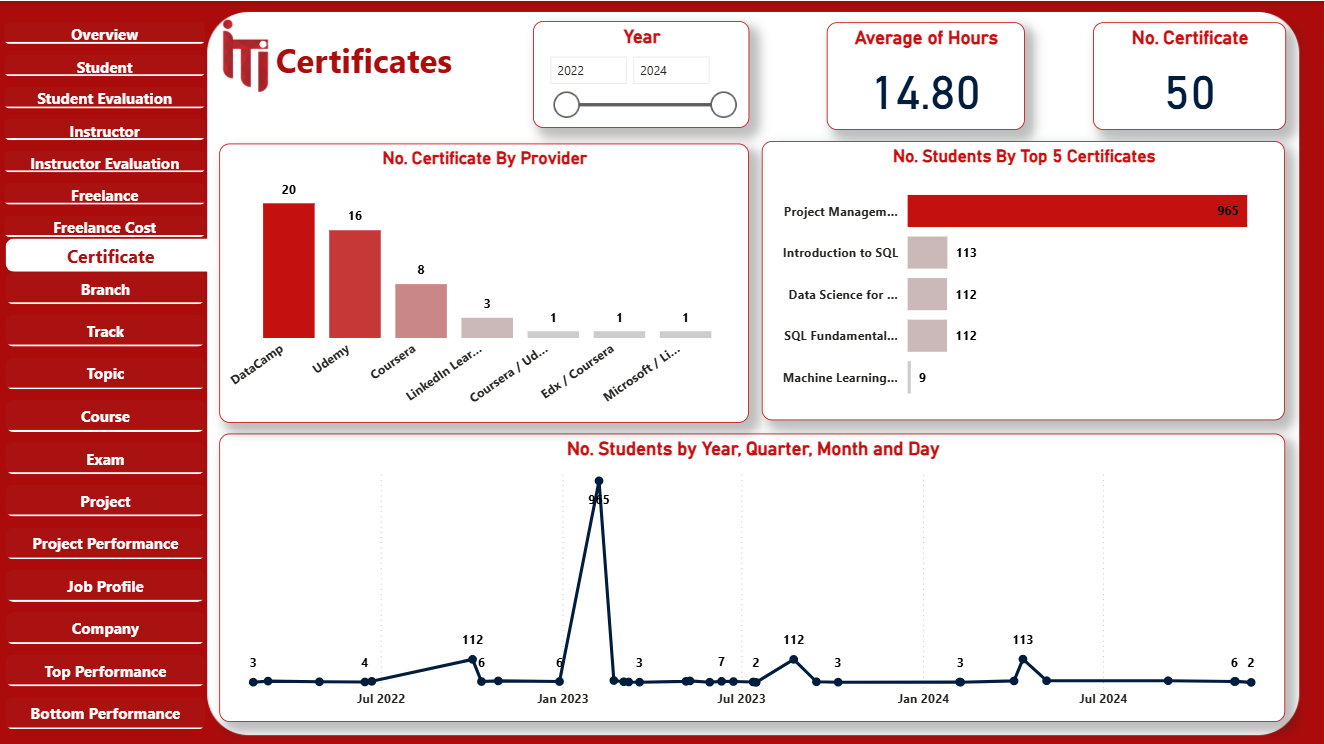

This screenshot's page, from the dashboard's own definition file:
{"tool":"powerbi","page":{"name":"Certificate","canvas":[1280,720],"ordinal":7},"visuals":[{"type":"card","title":"No. Certificate","fields":{"Values":["Measures_.No. Certificates"]},"box":[1056.6,20.2,186.2,103.9],"z":0},{"type":"card","title":"Average of Hours","fields":{"Values":["Avg(vw_Dim_Certificate.hours)"]},"box":[799.3,20.3,191,104.3],"z":1000},{"type":"lineChart","title":"No. Students by Year, Quarter, Month and Day","fields":{"Y":["Count(Fact_Student_Performance.st_id)"],"Category":["vw_Dim_Certificate.Expiration_Date.Variation.Date Hierarchy.Year","vw_Dim_Certificate.Expiration_Date.Variation.Date Hierarchy.Quarter","vw_Dim_Certificate.Expiration_Date.Variation.Date Hierarchy.Month","vw_Dim_Certificate.Expiration_Date.Variation.Date Hierarchy.Day"]},"box":[213.6,417.1,1029.1,278.6],"z":2000},{"type":"clusteredColumnChart","title":"No. Certificate By Provider","fields":{"Category":["vw_Dim_Certificate.provider"],"Y":["CountNonNull(vw_Dim_Certificate.cer_id)"]},"box":[213.6,137.1,511,269.9],"z":3000},{"type":"clusteredBarChart","title":"No. Students By Top 5 Certificates","fields":{"Category":["vw_Dim_Certificate.certificate_name"],"Y":["Count(Fact_Student_Performance.st_id)"]},"box":[737.6,135.7,505.2,269.9],"z":4000},{"type":"textbox","box":[263.5,30.2,273.1,81],"z":5000},{"type":"slicer","title":"Year","fields":{"Values":["vw_Dim_Certificate.Expiration_Date.Variation.Date Hierarchy.Year"]},"box":[516.2,19,208.6,103],"z":6000},{"type":"pageNavigator","box":[5.5,20.6,194.9,208.6],"z":7000},{"type":"pageNavigator","box":[6.9,229.2,203.1,32.9],"z":8000},{"type":"pageNavigator","box":[6.9,262.1,193.5,448.7],"z":9000},{"type":"image","box":[196.2,4.1,86.4,89.2],"z":10000}]}

Visuals, with their boxes on the page's 1280x720 design canvas (x1, y1, x2, y2). These are canvas units, not pixel positions in the 1325x744 screenshot, which may show the page scaled, cropped or inside an application window:
"No. Certificate" card: (left=1057, top=20, right=1243, bottom=124)
"Average of Hours" card: (left=799, top=20, right=990, bottom=125)
"No. Students by Year, Quarter, Month and Day" lineChart: (left=214, top=417, right=1243, bottom=696)
"No. Certificate By Provider" clusteredColumnChart: (left=214, top=137, right=725, bottom=407)
"No. Students By Top 5 Certificates" clusteredBarChart: (left=738, top=136, right=1243, bottom=406)
textbox: (left=264, top=30, right=537, bottom=111)
"Year" slicer: (left=516, top=19, right=725, bottom=122)
pageNavigator: (left=6, top=21, right=200, bottom=229)
pageNavigator: (left=7, top=229, right=210, bottom=262)
pageNavigator: (left=7, top=262, right=200, bottom=711)
image: (left=196, top=4, right=283, bottom=93)
